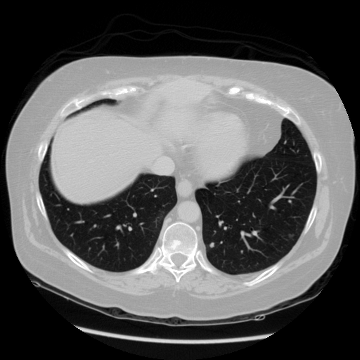nodule: (209, 241, 215, 247)
